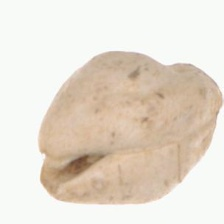L1: (36, 135, 77, 199)
L2: (37, 50, 222, 207)
